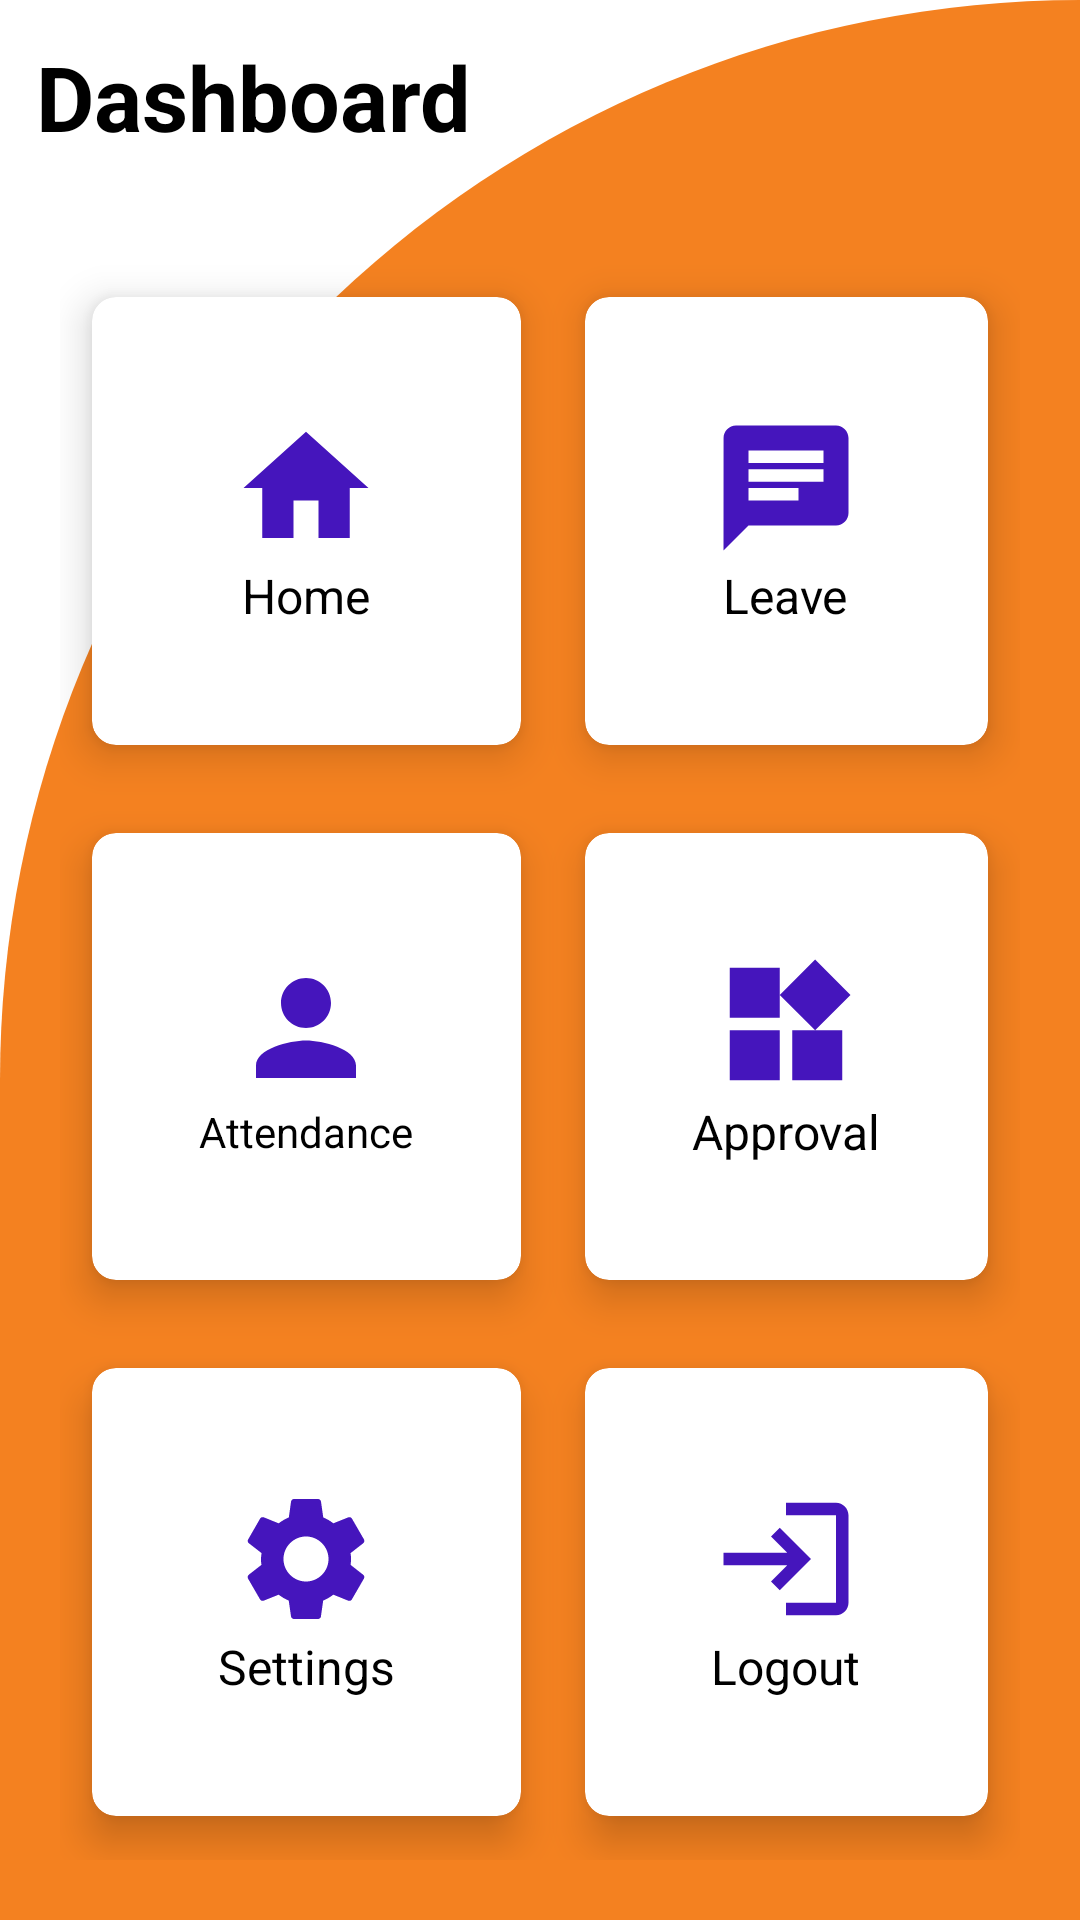

Where to tap for icons on this 1080*1920 app screen, as (x=x, y=y):
chat: (x=786, y=488)
person: (x=306, y=1028)
widgets: (x=790, y=1020)
